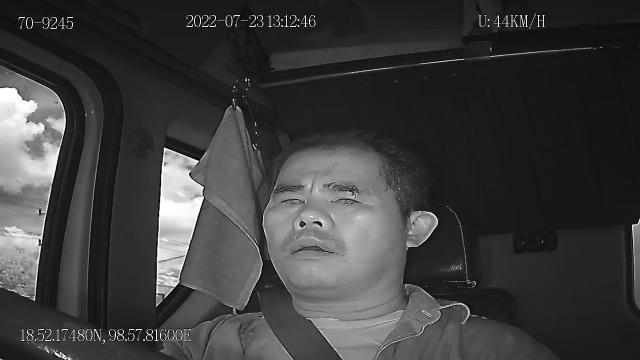SafeDriving: (324, 185, 368, 212), (272, 188, 310, 212)
Seatbelt: (256, 286, 346, 360)
